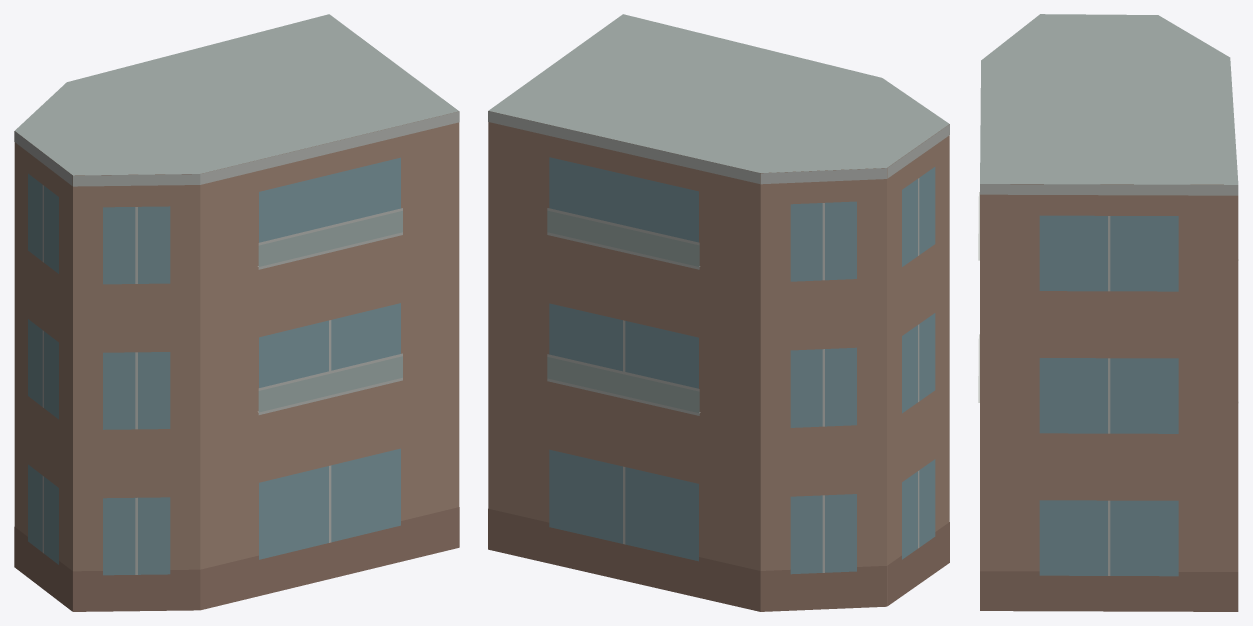
File: survey-upis-33031730.glb
3 views of the same model, side by side, from view 1: azimuth 30°, elevation 25°; view 2: azimuth 150°, elevation 25°; view 3: azimuth 270°, elevation 25° (orthographic). The views are drawn at different scales.
Visible parts, largest first — view 1: survey-upis-33031730.tmp; view 2: survey-upis-33031730.tmp; view 3: survey-upis-33031730.tmp.
Part boxes in pixels (box(x1,y1,x2,y2)): survey-upis-33031730.tmp: box(14, 14, 459, 611); survey-upis-33031730.tmp: box(488, 14, 949, 611); survey-upis-33031730.tmp: box(978, 14, 1238, 611).
Bounding box in the file's own units: 8.25 × 9.6 × 5.31.
